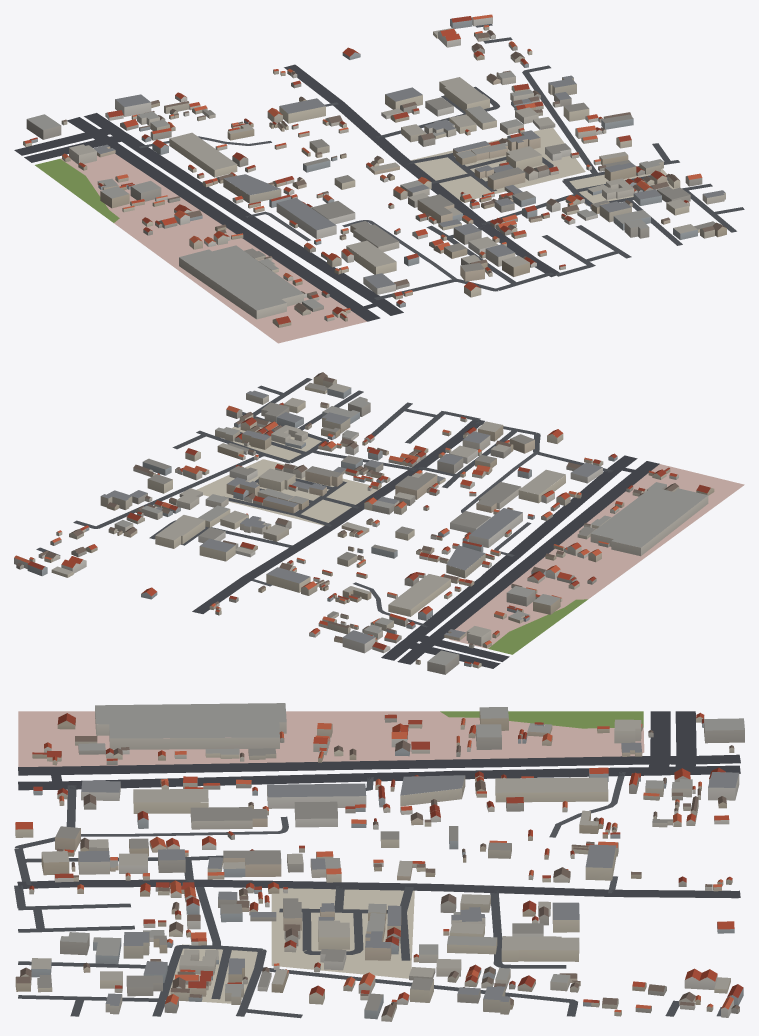
3 renders of one model, top to bottom at view 1: azimuth 30°, elevation 25°; view 2: azimuth 150°, elevation 25°; view 3: azimuth 270°, elevation 25°, orthographic. The views are drawn at different scales.
Parts seen in each view (by area): view 1: buildings_roofs, buildings_walls, roads, landuse; view 2: buildings_roofs, buildings_walls, roads, landuse; view 3: buildings_roofs, buildings_walls, roads, landuse.
Boxes of the visible parts, left/top/right/bottom form: buildings_roofs: left=24, top=14, right=725, bottom=324; buildings_walls: left=23, top=17, right=726, bottom=327; roads: left=14, top=24, right=744, bottom=321; landuse: left=35, top=127, right=678, bottom=343; buildings_roofs: left=14, top=372, right=710, bottom=665; buildings_walls: left=14, top=376, right=714, bottom=674; roads: left=36, top=378, right=659, bottom=668; landuse: left=196, top=426, right=744, bottom=654; buildings_roofs: left=15, top=703, right=744, bottom=1017; buildings_walls: left=15, top=708, right=744, bottom=1021; roads: left=14, top=711, right=740, bottom=1018; landuse: left=18, top=711, right=644, bottom=1003.
Bounding box in the file's own units: 509 × 9.62 × 506.
